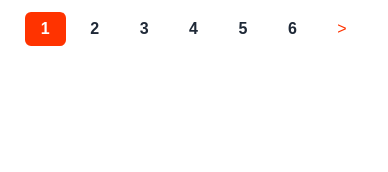
Test case: Pagination component › correctly adjusts visible pages when clicking page buttons
// Clica na página 5
Click the button with test id "page-button-5" at (243, 29), box x1=222 y1=12 x2=264 y2=46
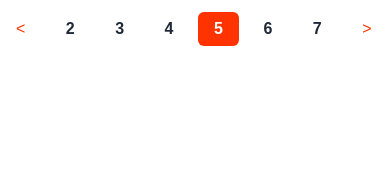
Expected: the button with test id "page-button-4" is shown, x1=149 y1=12 x2=190 y2=46
Expected: the button with test id "page-button-1" is gone
